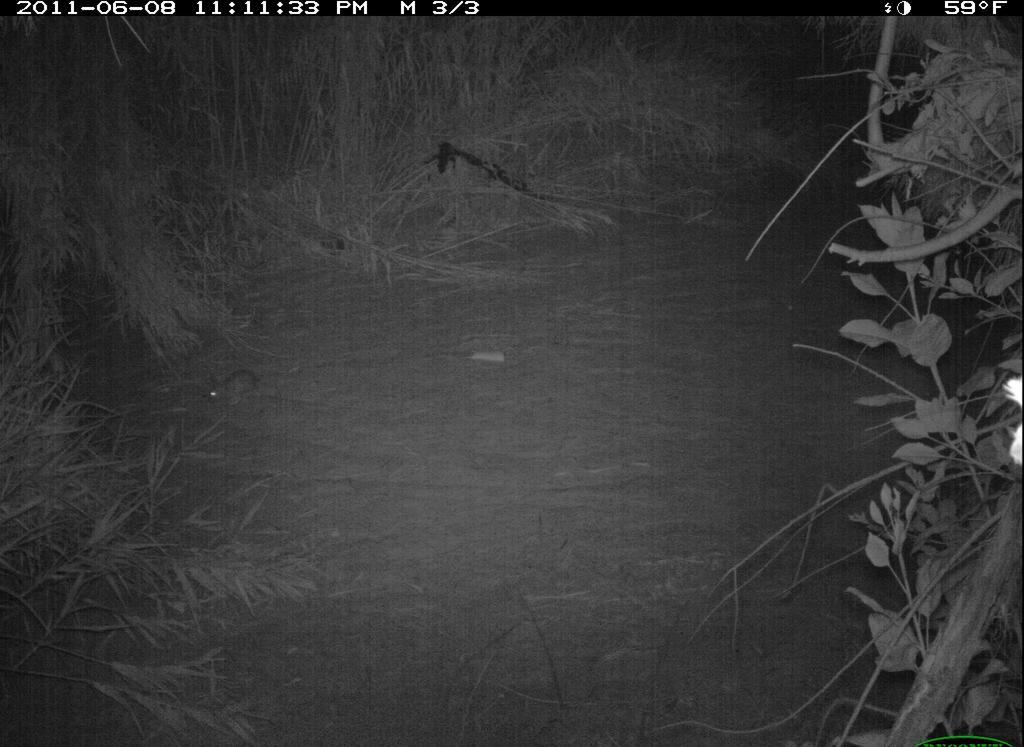rabbit: (194, 345, 286, 427)
